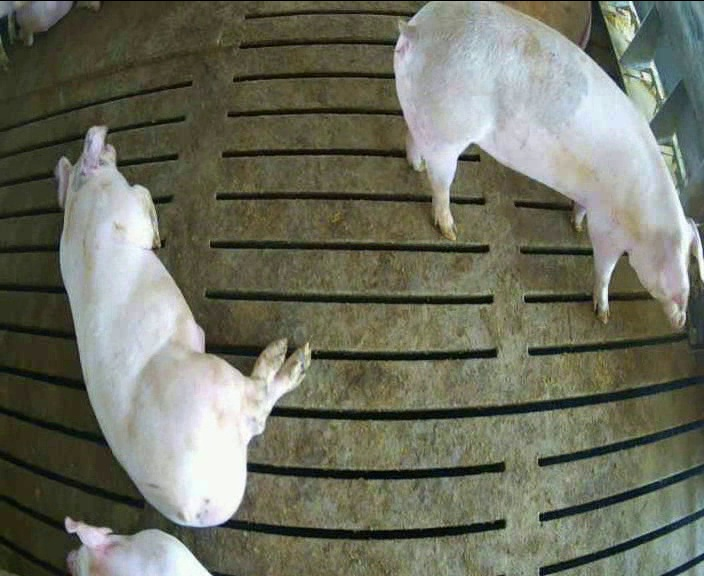pig: (56, 126, 310, 525), (394, 2, 703, 326)
